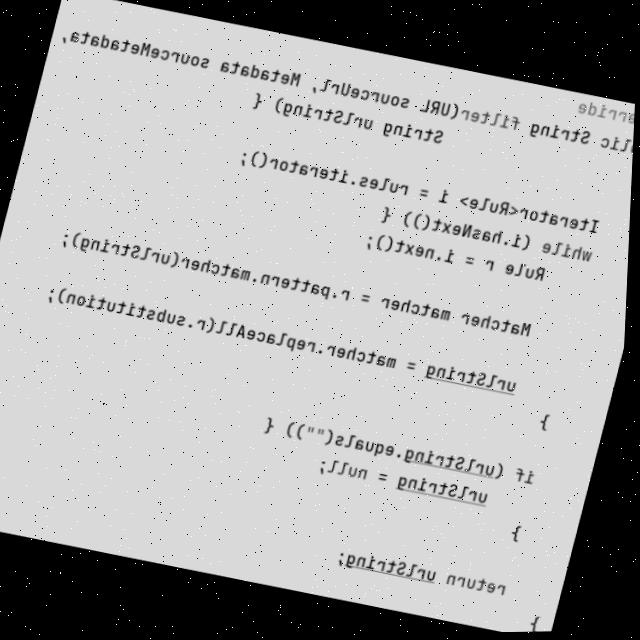code_screen: (0, 0, 635, 632)
